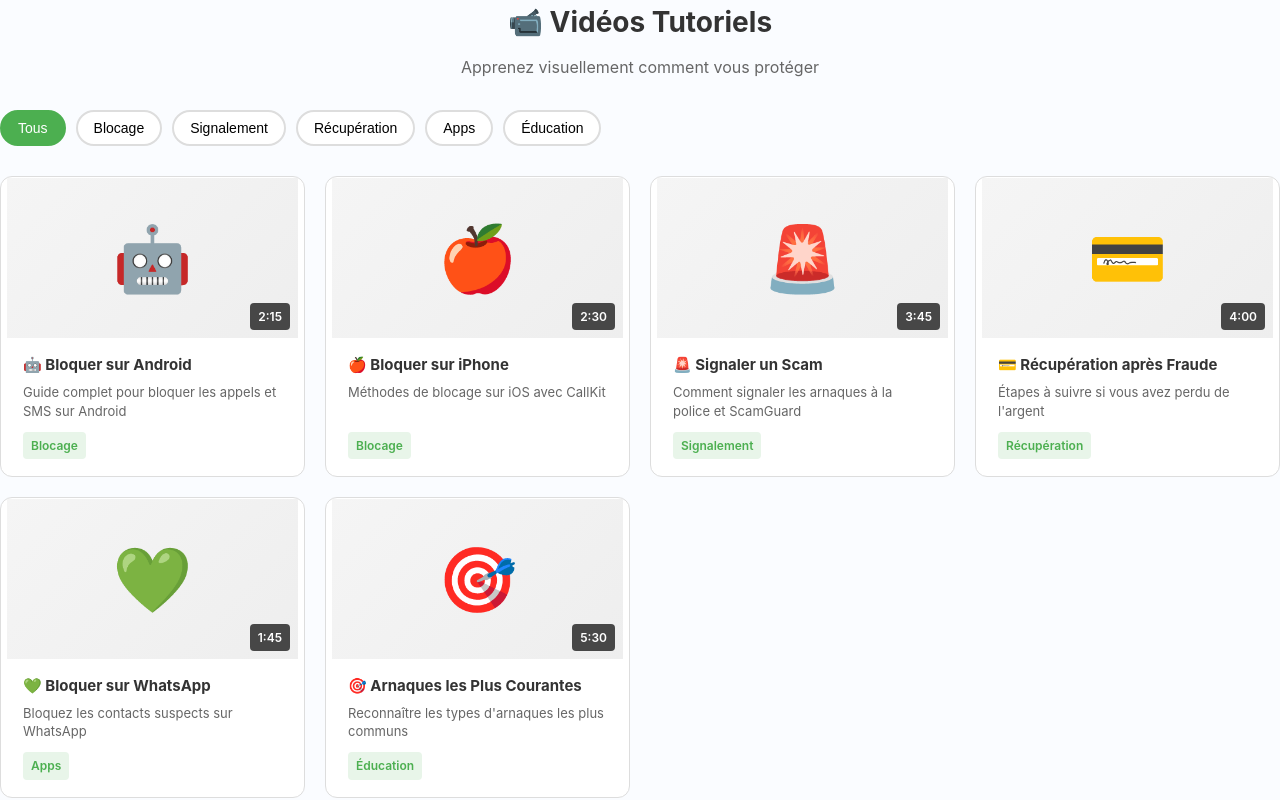
Test case: VideosSection Component › Video Modal › should show modal when video card is clicked
The image size is (1280, 800).
Click the button that starts with "🤖 Bloquer sur Android".
click(152, 327)  # box [0,176,305,477]
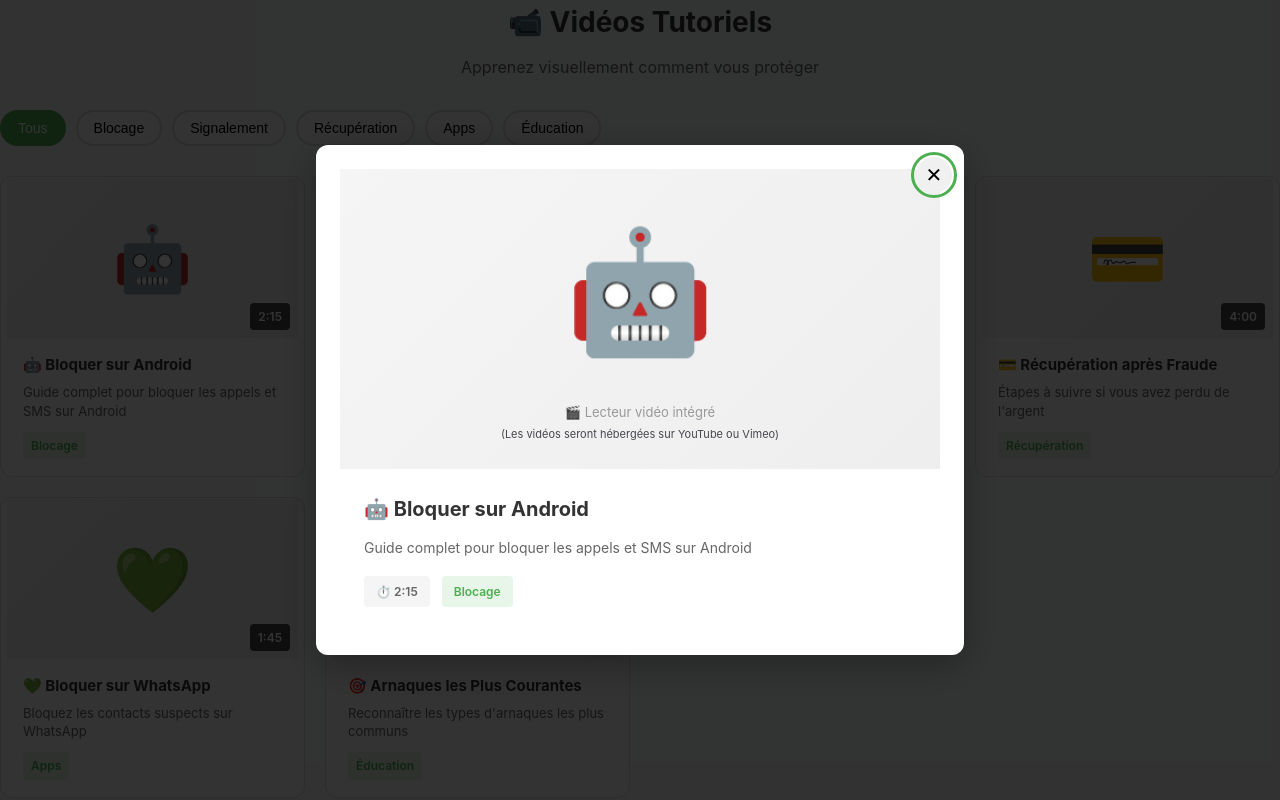
Check: the element that starts with "🎬 Lecteur vidéo intégré" is shown
